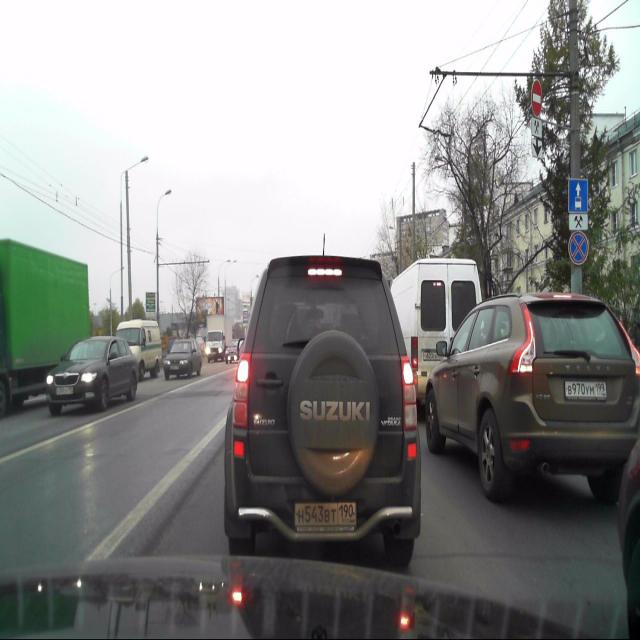road sign: (568, 177, 588, 212), (568, 213, 588, 233), (532, 119, 542, 138)
